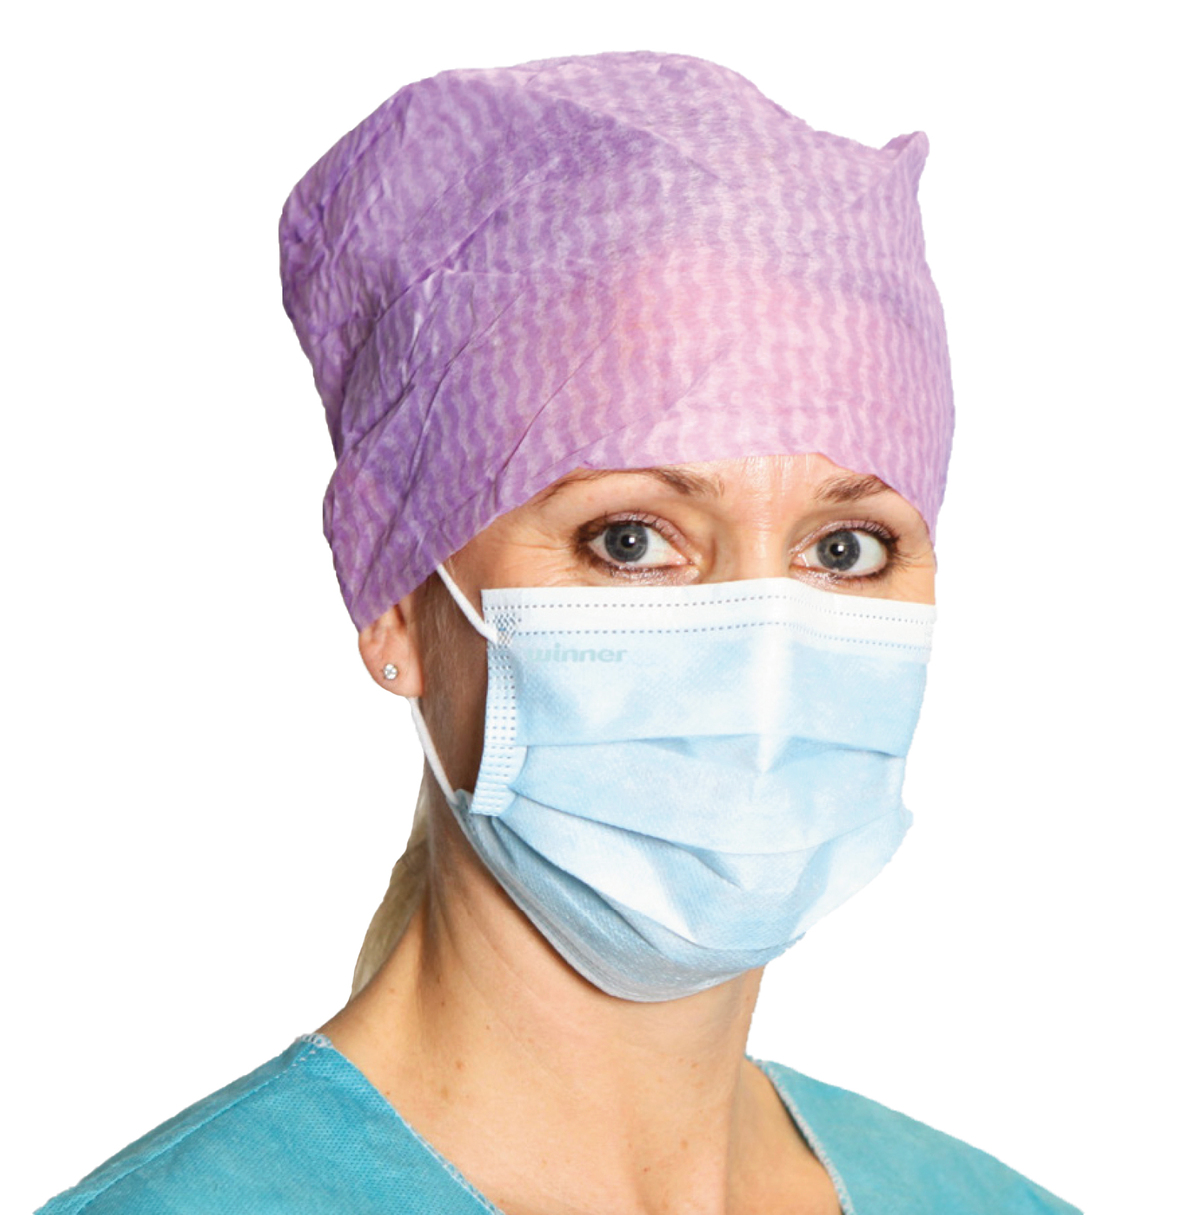with_mask_and_cap: (275, 50, 951, 1011)
